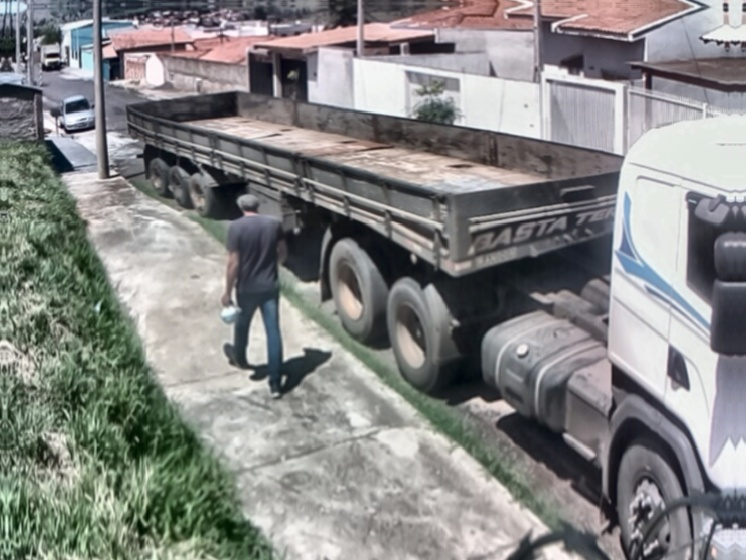person: (223, 193, 289, 400)
